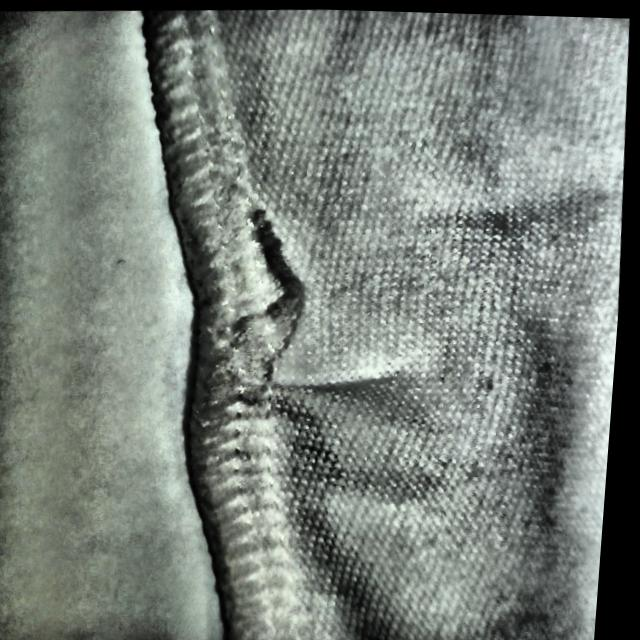seam: (185, 203, 405, 430)
